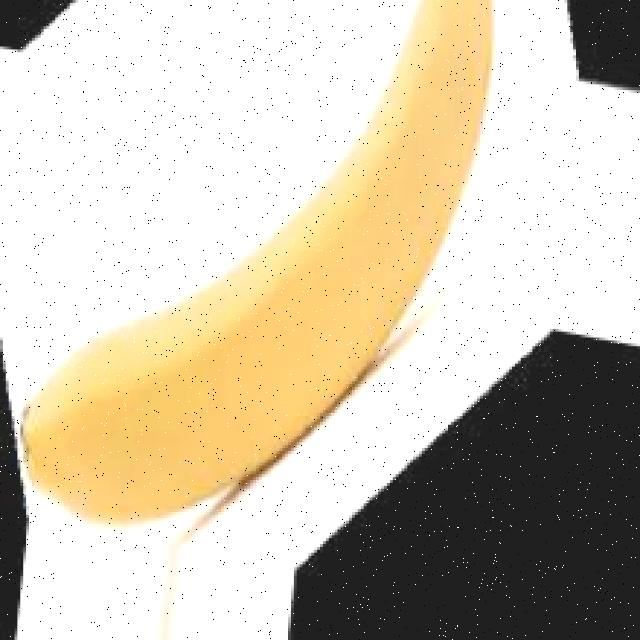banana: (17, 0, 526, 532)
